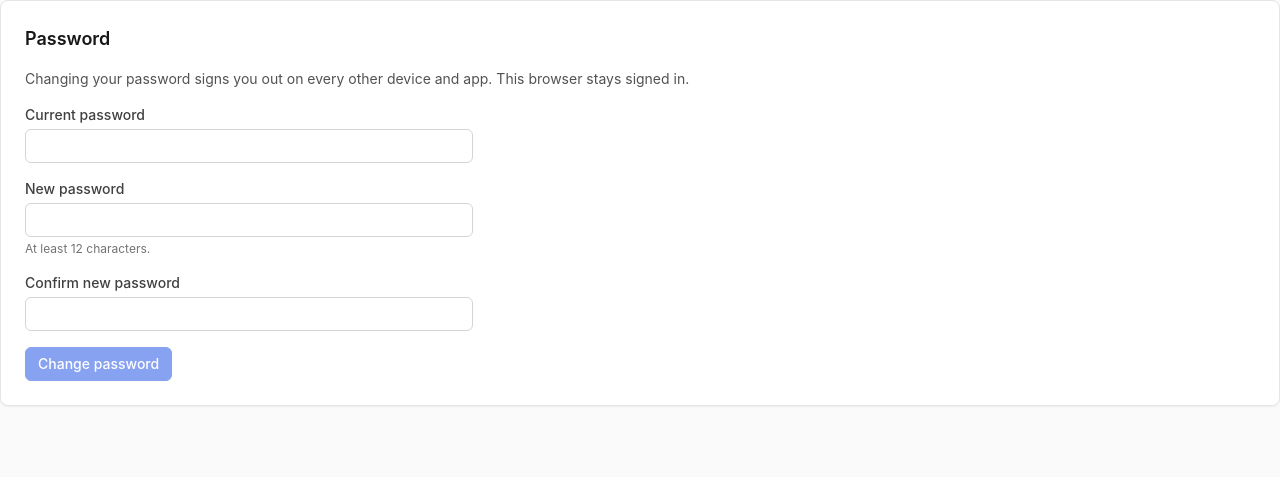
PasswordSection › changes the password with the current one
Type "old" into the password field labelled "Current password" at [249, 146], box [25,129,473,163]
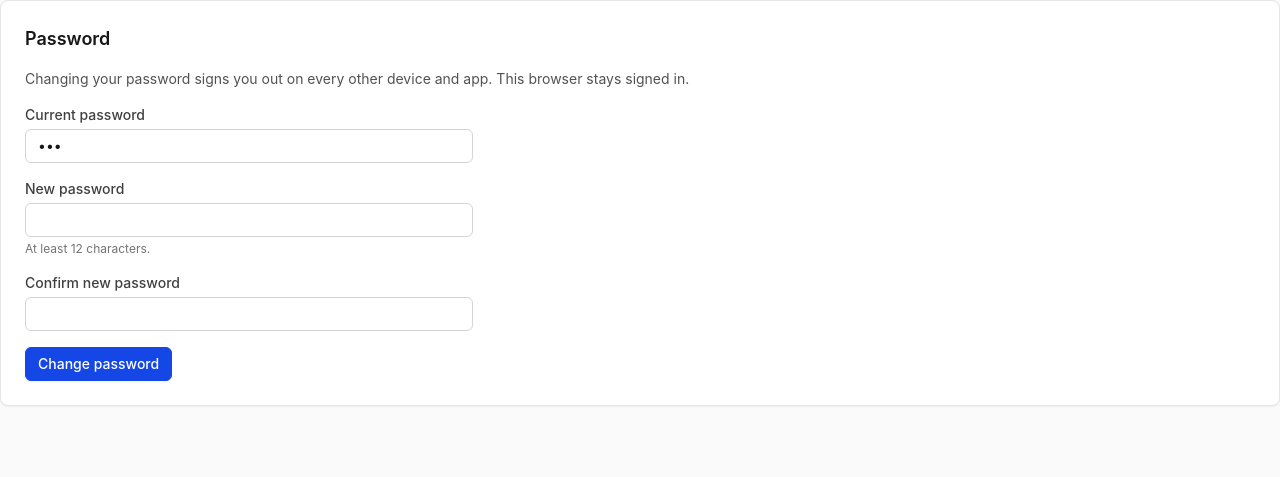
Type "a-long-new-password" into the password field labelled "New password" at [249, 220], box [25,203,473,237]
Type "a-long-new-password" into the password field labelled "Confirm new password" at [249, 314], box [25,297,473,331]
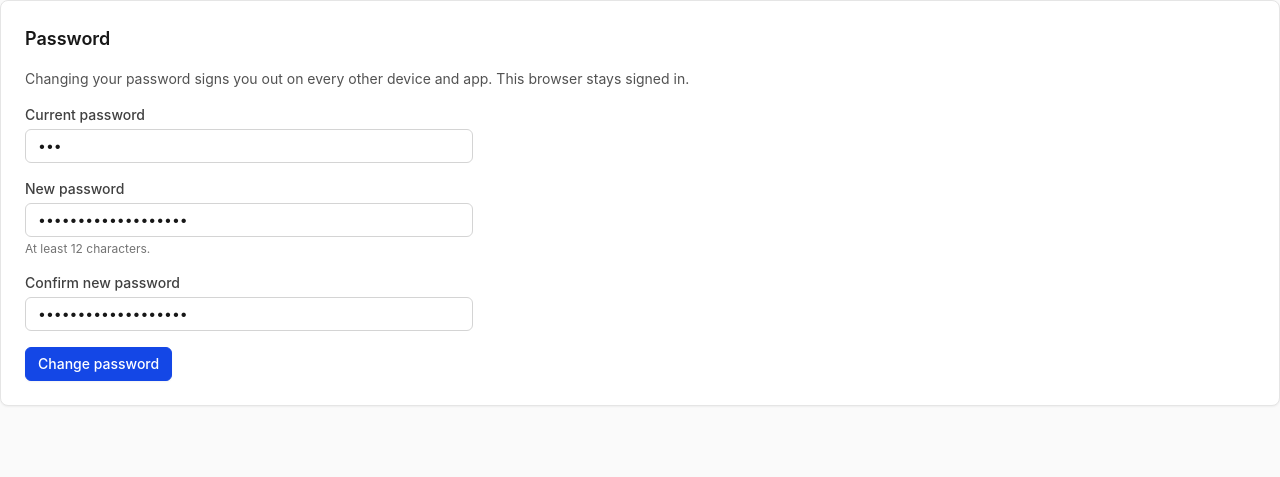
Submit the form
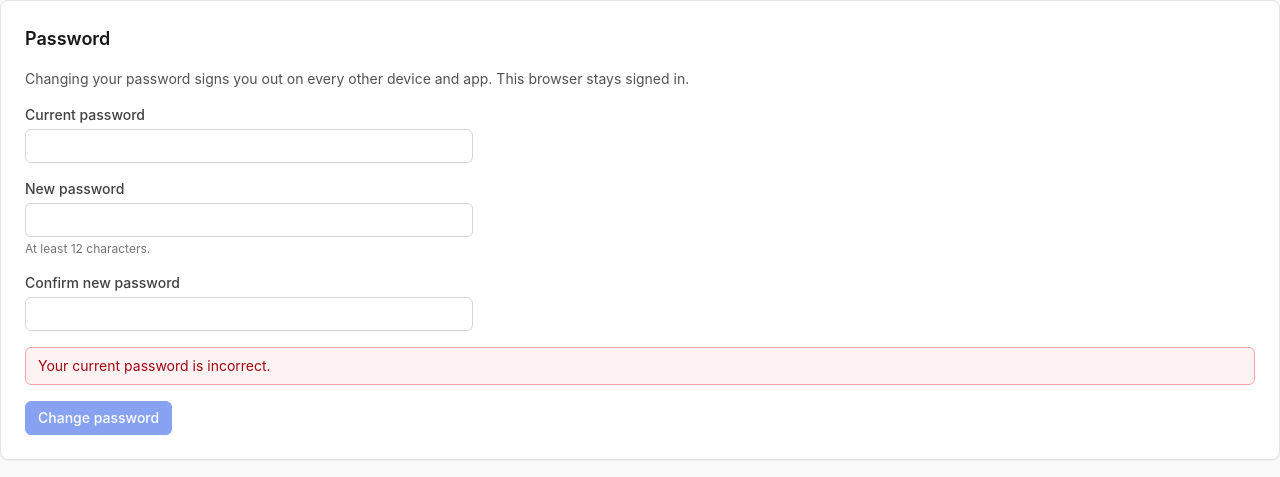
Check: the message "Your current password is incorrect." is shown, box [25,347,1255,385]
Type "old" into the password field labelled "Current password" at [249, 146], box [25,129,473,163]
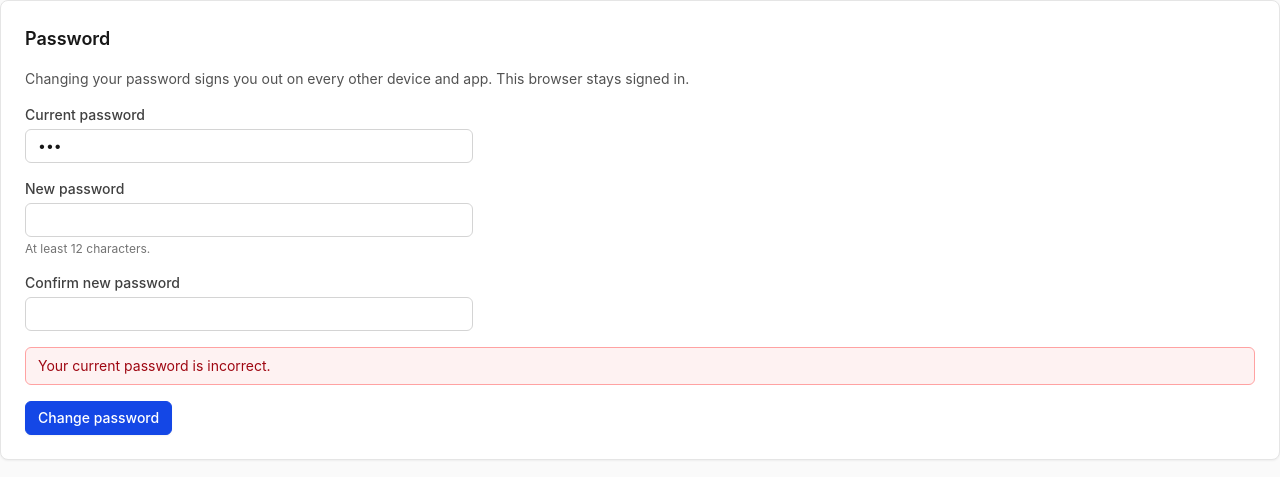
Type "a-long-new-password" into the password field labelled "New password" at [249, 220], box [25,203,473,237]
Type "a-long-new-password" into the password field labelled "Confirm new password" at [249, 314], box [25,297,473,331]
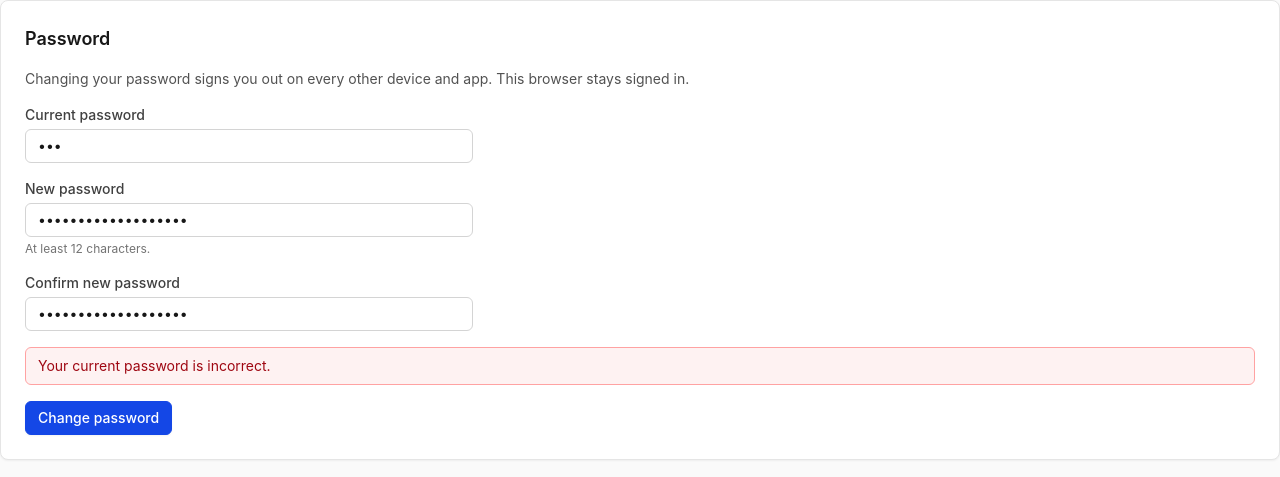
Submit the form
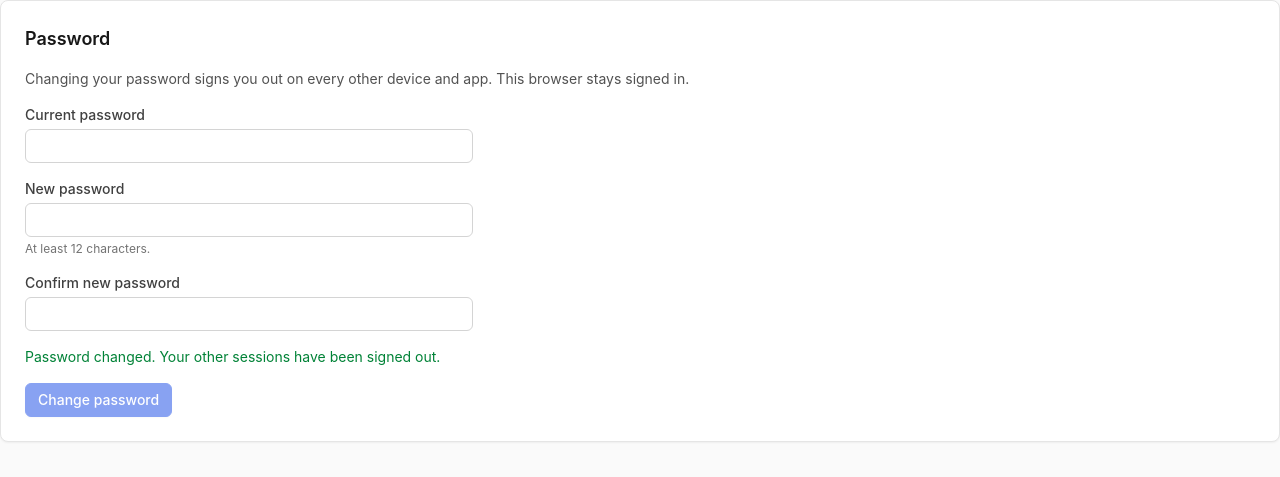
Check: the message "Password changed. Your other sessions have been signed out." is shown, box [25,348,440,365]
